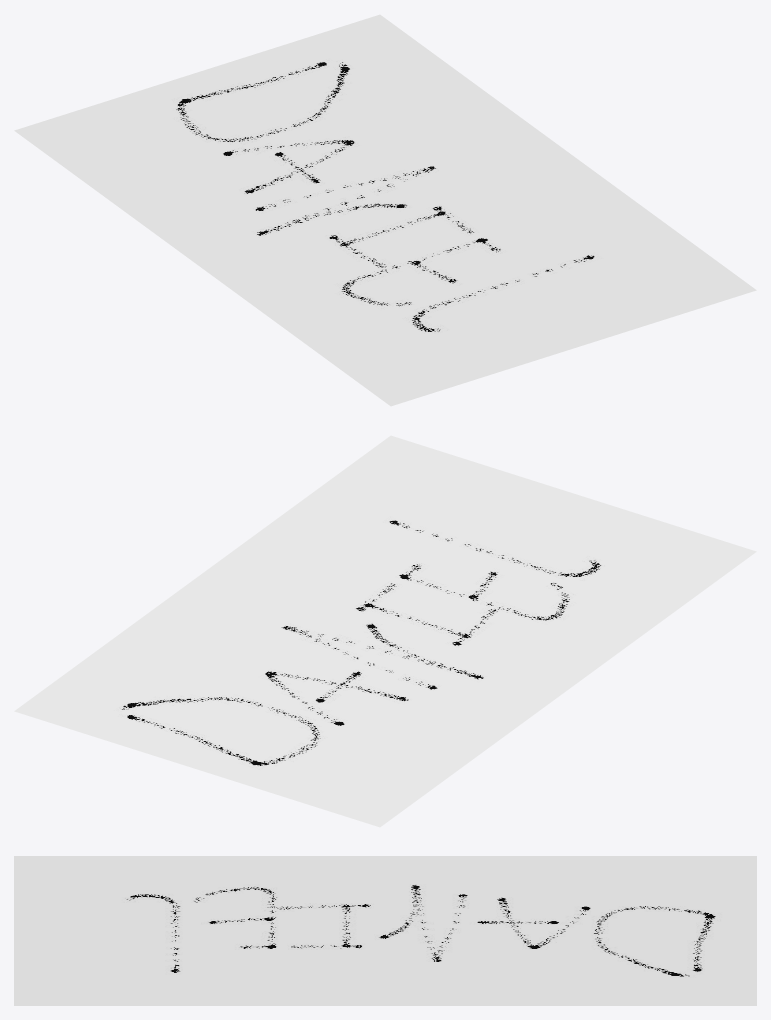
3 renders of one model, top to bottom at view 1: azimuth 30°, elevation 25°; view 2: azimuth 150°, elevation 25°; view 3: azimuth 270°, elevation 25°, orthographic.
Bounding box in the file's own units: 19.95 × 1.4 × 35.57.
Materials: 1 (1 with a texture image).
